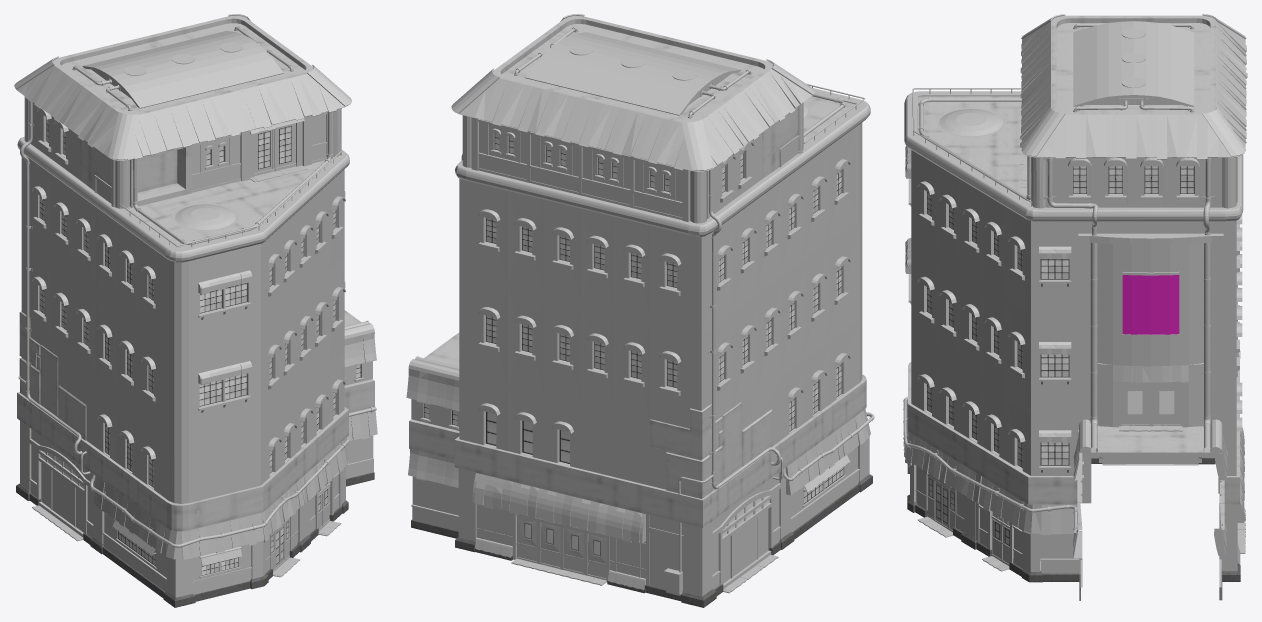
Rendered from SM_ENV_KNVLLG_AreaG_Building_A.mo.fbx.
3 views of the same model, side by side, from view 1: azimuth 30°, elevation 25°; view 2: azimuth 150°, elevation 25°; view 3: azimuth 270°, elevation 25° (orthographic). The views are drawn at different scales.
Visible parts, largest first — view 1: SM_ENV_KNVLLG_AreaG_Building_A.mo; view 2: SM_ENV_KNVLLG_AreaG_Building_A.mo; view 3: SM_ENV_KNVLLG_AreaG_Building_A.mo.
Part boxes in pixels (box(x1,y1,x2,y2)): SM_ENV_KNVLLG_AreaG_Building_A.mo: box(14, 14, 377, 607); SM_ENV_KNVLLG_AreaG_Building_A.mo: box(406, 14, 874, 607); SM_ENV_KNVLLG_AreaG_Building_A.mo: box(903, 14, 1247, 600).
Bounding box in the file's own units: 20.56 × 30.01 × 20.12.
